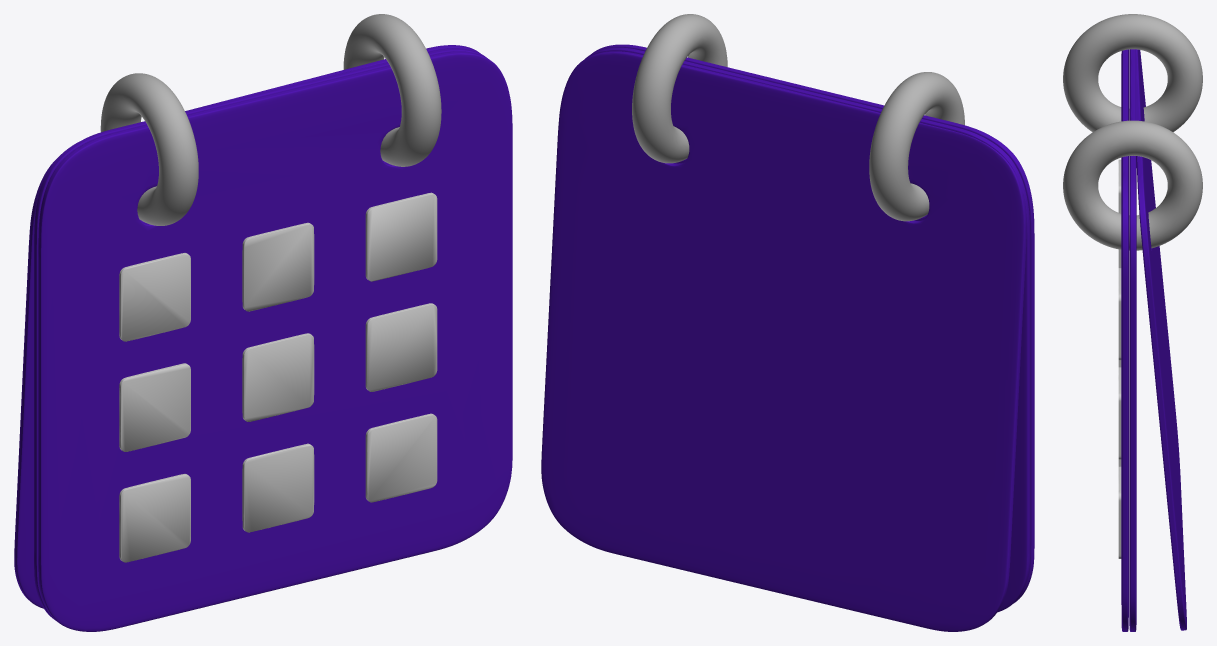
File: calender.glb
3 renders of one model, left to right at view 1: azimuth 30°, elevation 25°; view 2: azimuth 150°, elevation 25°; view 3: azimuth 270°, elevation 25°, orthographic. The views are drawn at different scales.
Parts seen in each view (by area): view 1: Plane.002, Torus.009; view 2: Plane.002, Torus.009; view 3: Torus.009, Plane.002.
Boxes of the visible parts, x1,y1,x2,y2 form: Plane.002: [14, 45, 512, 631]; Torus.009: [100, 14, 441, 225]; Plane.002: [541, 44, 1034, 631]; Torus.009: [632, 14, 964, 221]; Torus.009: [1063, 14, 1202, 250]; Plane.002: [1118, 49, 1186, 631].
Size of the model in its own units: 1.79 by 1.94 by 0.5096.
